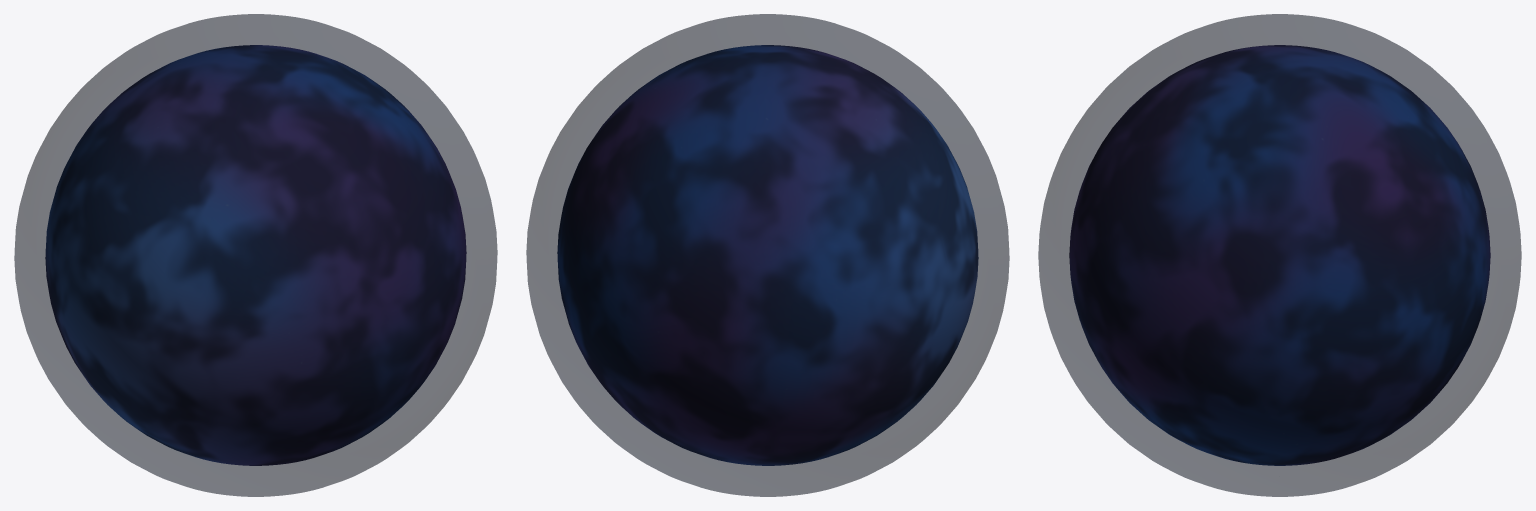
File: ArcaneFocusOrb.obj
3 views of the same model, side by side, from view 1: azimuth 30°, elevation 25°; view 2: azimuth 150°, elevation 25°; view 3: azimuth 270°, elevation 25° (orthographic).
Parts seen in each view (by area): view 1: ArcaneFocusOrb; view 2: ArcaneFocusOrb; view 3: ArcaneFocusOrb.
Boxes of the visible parts, left/top/right/bottom form: ArcaneFocusOrb: left=14, top=14, right=497, bottom=496; ArcaneFocusOrb: left=526, top=14, right=1009, bottom=496; ArcaneFocusOrb: left=1038, top=14, right=1521, bottom=496.
Bounding box in the file's own units: 0.07 × 0.07 × 0.07.
2 materials, 1 textured.
